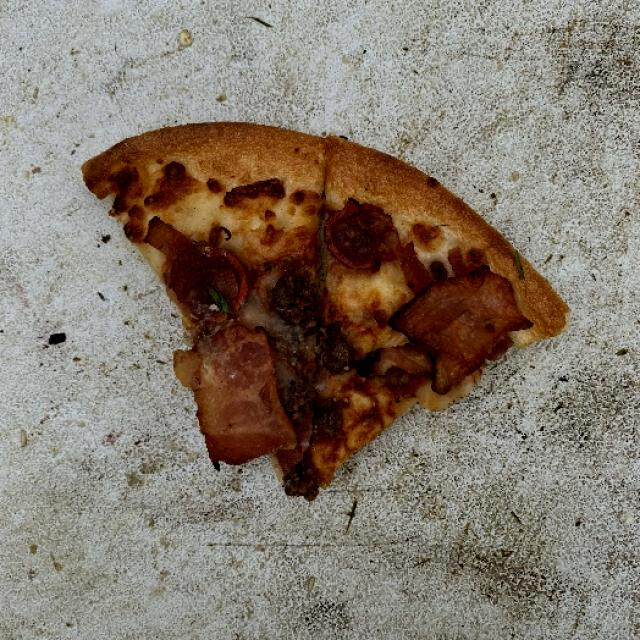wet: (94, 124, 548, 480)
